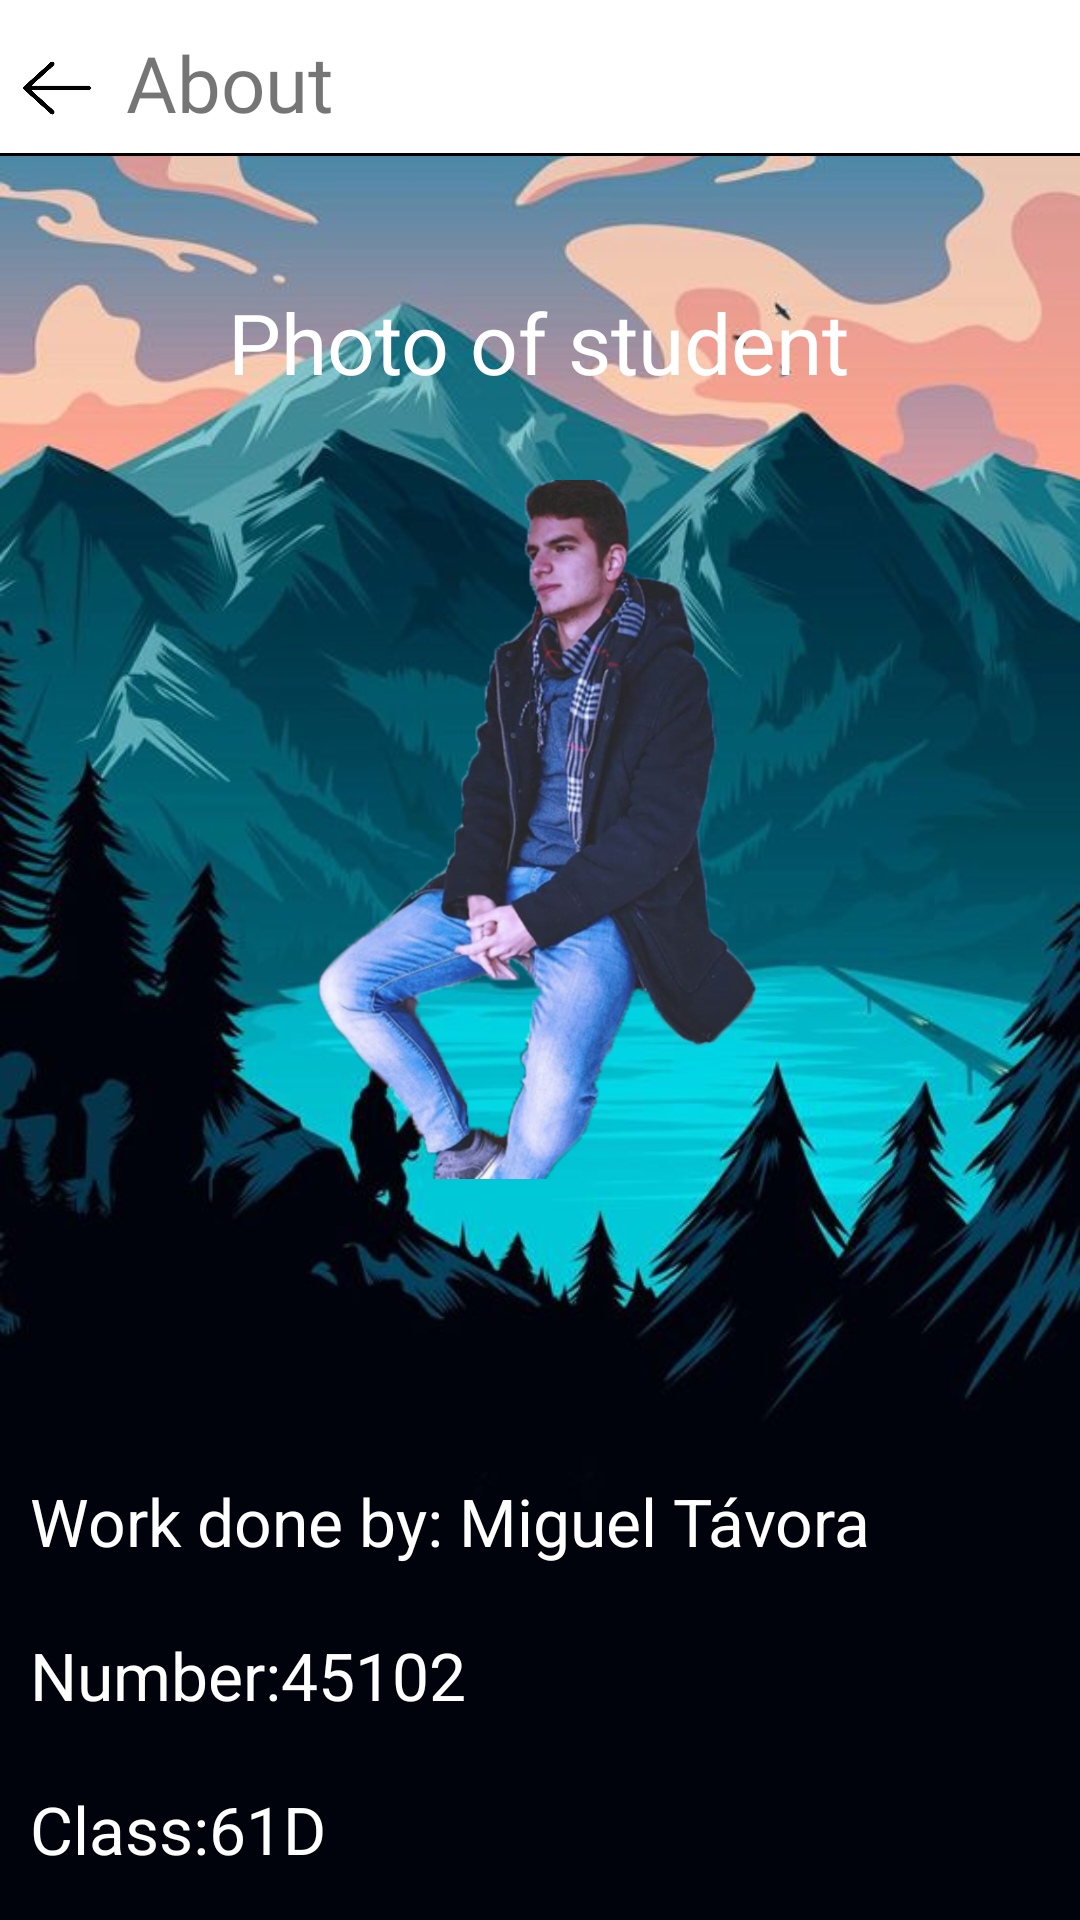

Icons on this 1080w x 1920h Android screen, each with the point to tap as point (x, y):
back arrow: point (57, 88)
